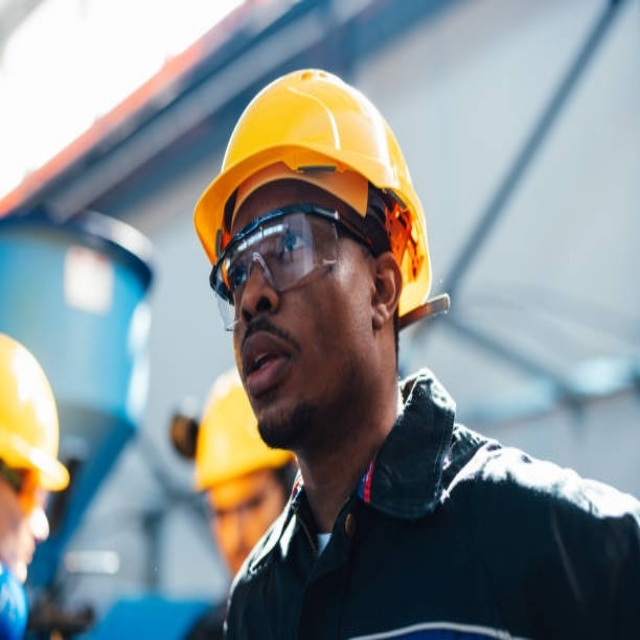Gafas: (210, 204, 374, 307)
Sin_mascara: (231, 326, 316, 417)
